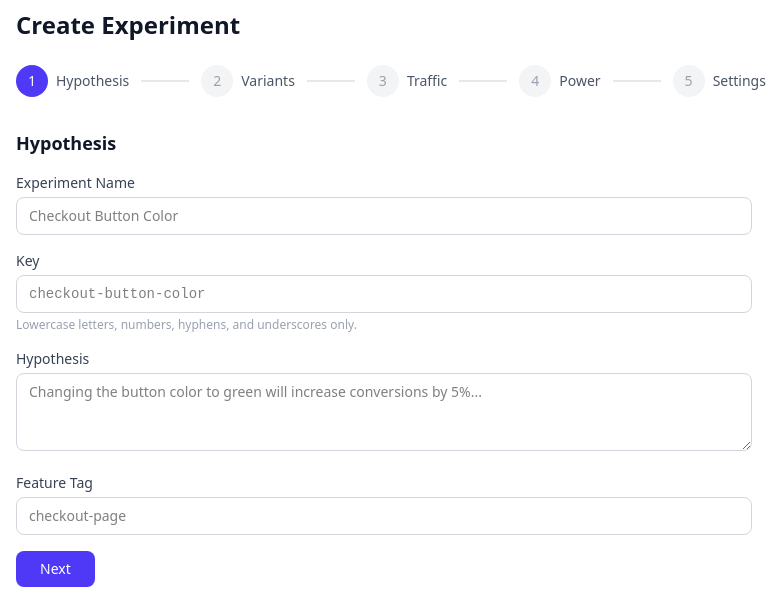
Test: CreateExperimentPage — Power calculator wizard step › groups the desired-power radios in a fieldset with a legend, and announces the result in a live region
The image size is (783, 604).
Type "Test Experiment" into the field with placeholder "Checkout Button Color" at (384, 216), box [16,197,752,235]
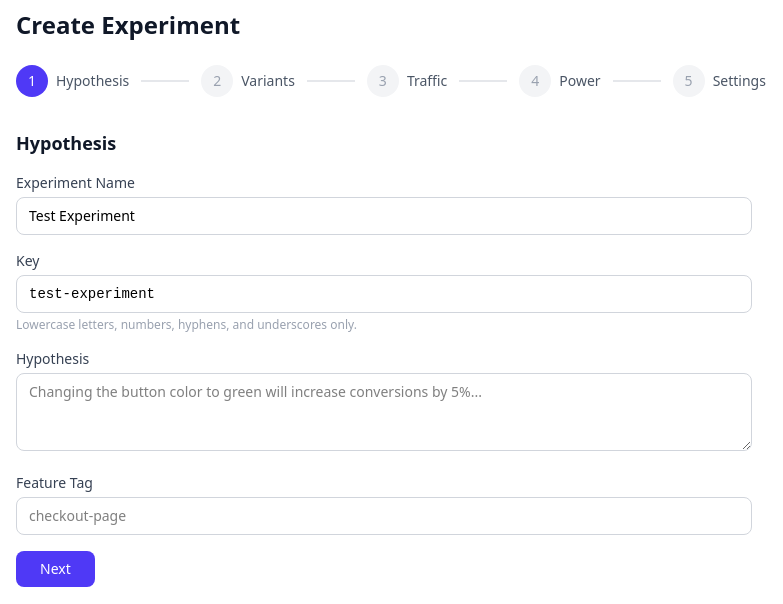
Click the button "Next" at (55, 569), box [16,551,95,587]
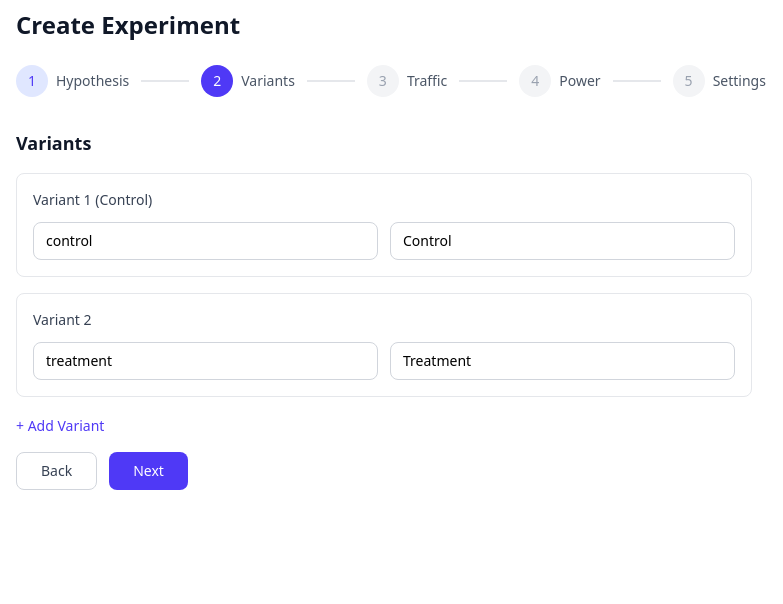
Click the button "Next" at (149, 471), box [109,452,188,490]
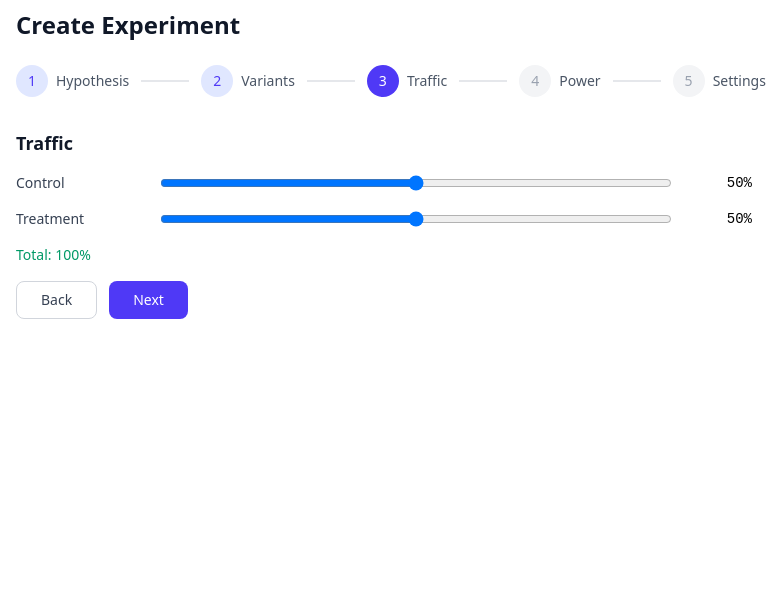
Click the button "Next" at (149, 300), box [109,281,188,319]
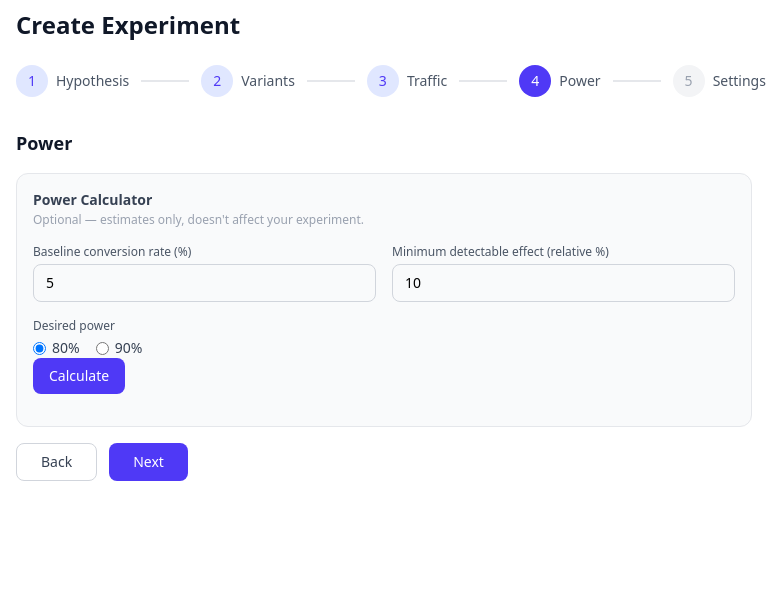
Expected: the heading "Power Calculator" is shown, [33,190,152,209]
Expected: the text "Desired power" is shown, [33,317,115,334]
Click the button "Calculate" at (79, 376), box [33,358,125,394]
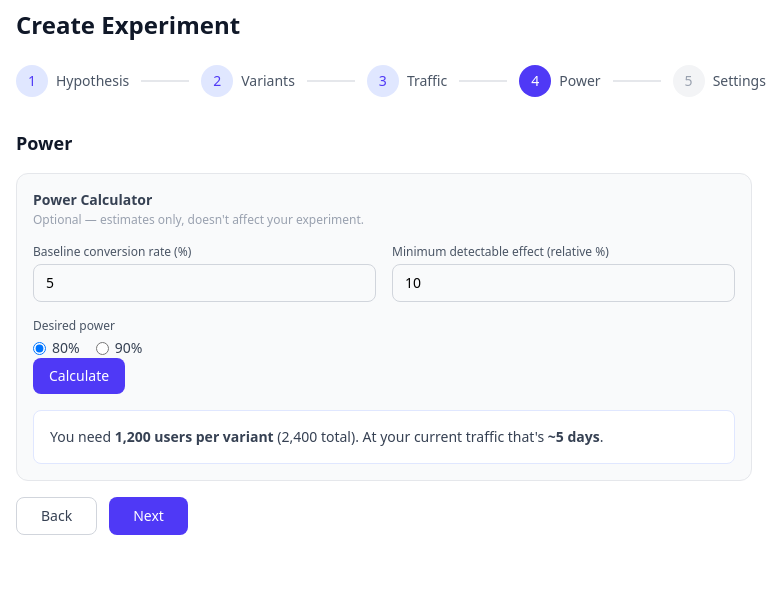
Expected: the text "1,200 users per variant" is shown, [115,427,274,446]
